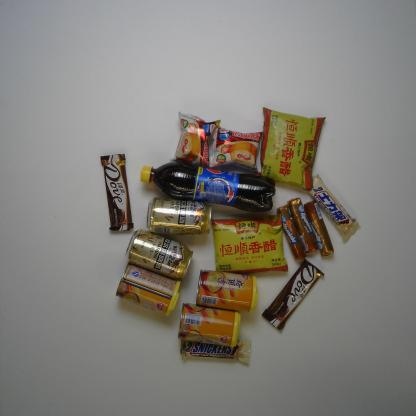Alcohol: (123, 228, 195, 280), (145, 194, 214, 237)
Candy: (286, 195, 320, 254), (301, 198, 334, 258), (276, 203, 308, 262)
Canned Food: (114, 261, 182, 317), (176, 302, 243, 348), (195, 268, 260, 314)
Chocolate: (262, 258, 326, 332), (306, 172, 362, 244), (100, 153, 135, 230), (178, 338, 254, 364)
Dessert: (168, 111, 221, 169), (204, 124, 266, 173)
Drink: (140, 160, 278, 214)
Seasoner: (258, 105, 329, 191), (210, 212, 290, 275)
